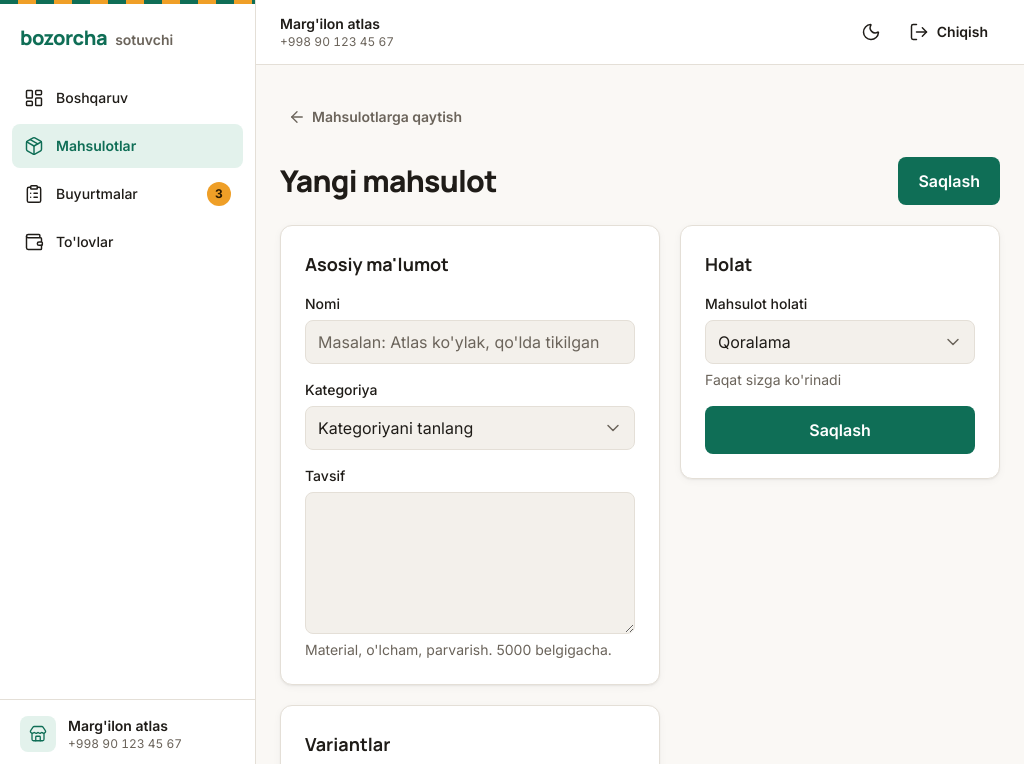
ProductEditorPage: saving › creates a product for sale as a draft and activates it after its variants
The width and height of the screenshot is (1024, 764).
Type "Choynak" into the field labelled "Nomi" at (470, 342), box top-left (305, 320), bottom-right (635, 364)
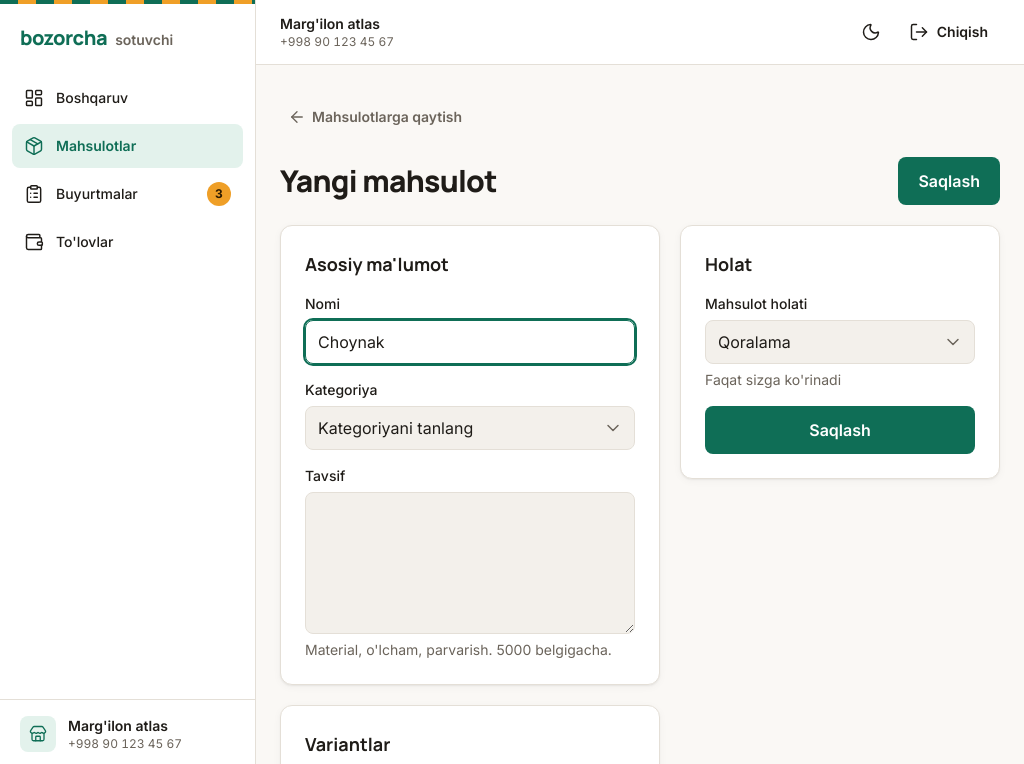
Select "Ayollar kiyimi" in the dropdown labelled "Kategoriya" at (470, 428), box top-left (305, 406), bottom-right (635, 450)
(page scrolled)
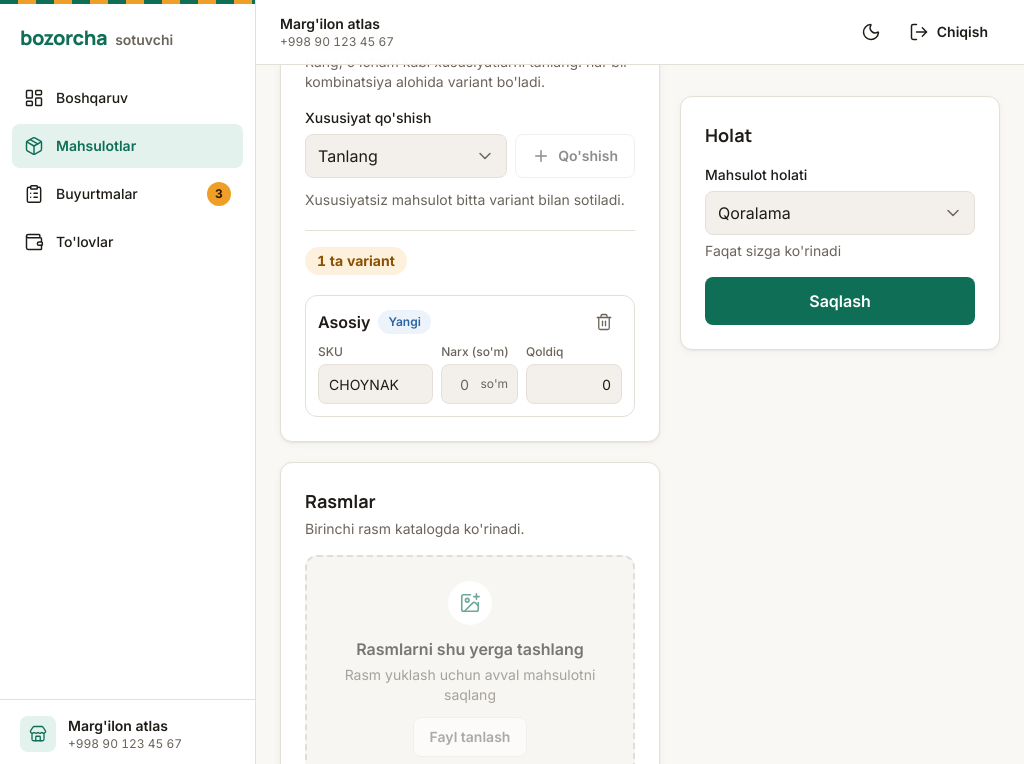
Type "185000" into the field named "Narx, so'm: Asosiy" at (480, 384), box top-left (441, 364), bottom-right (518, 404)
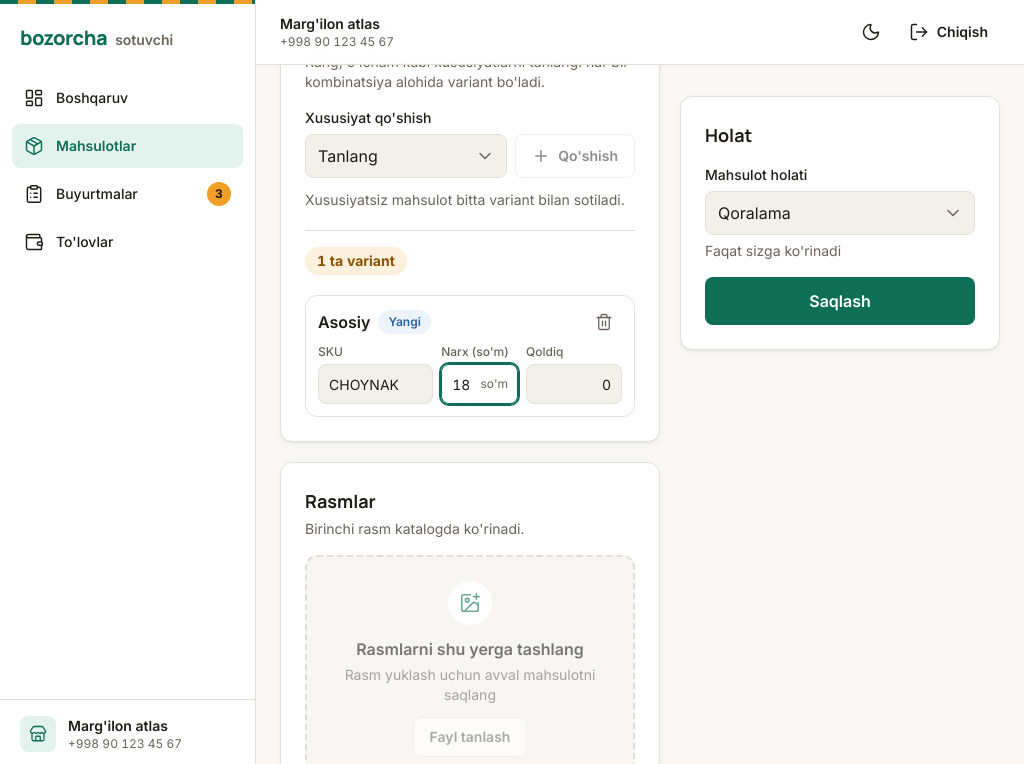
Select "Sotuvda" in the dropdown labelled "Mahsulot holati" at (840, 213), box top-left (705, 191), bottom-right (975, 235)
(page scrolled)
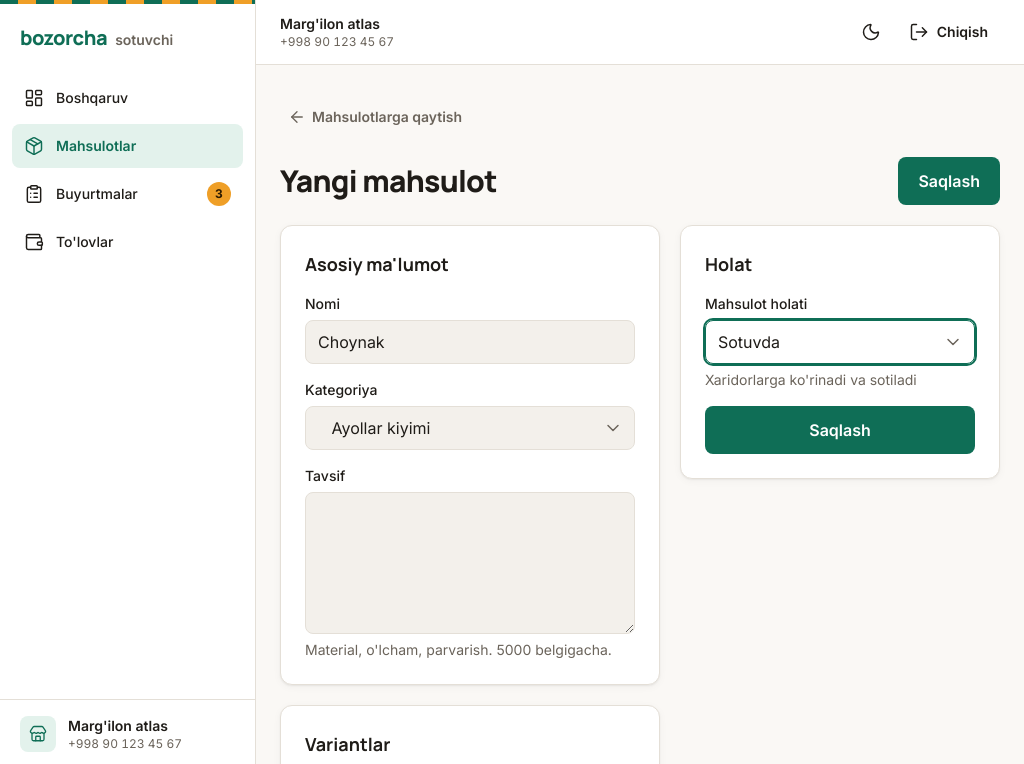
Click the button "Saqlash" in the row of "Yangi mahsulot" at (949, 181), box top-left (898, 157), bottom-right (1000, 205)
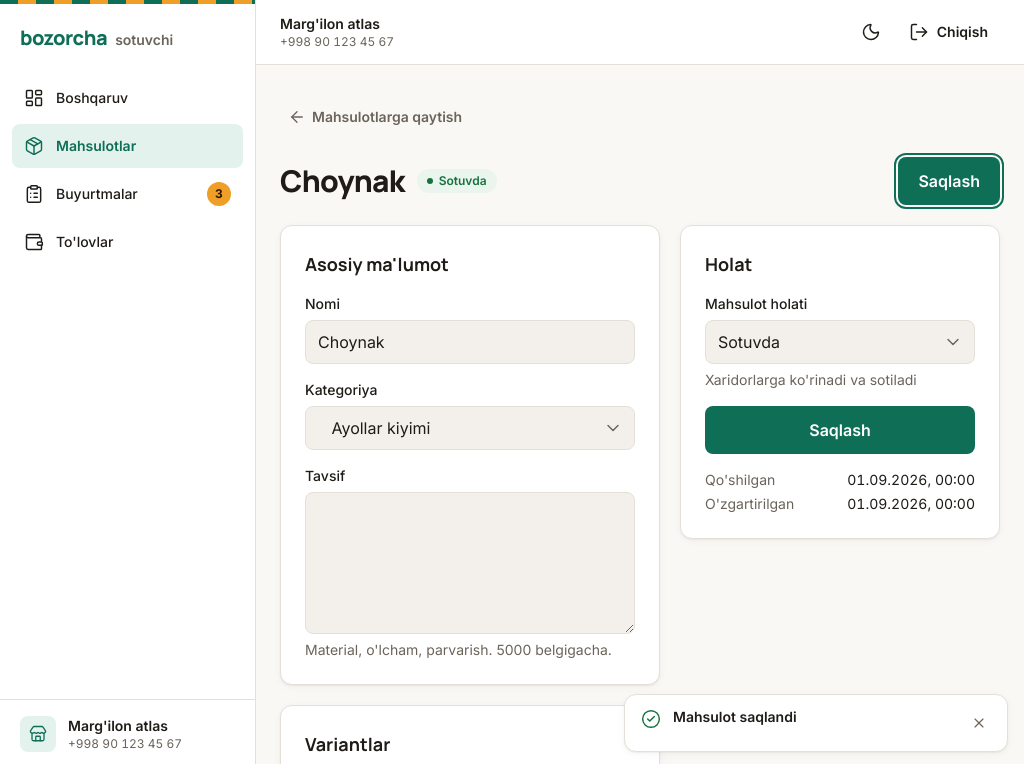
Now the text "Mahsulot saqlandi" is shown, box top-left (673, 708), bottom-right (797, 725)
Now the text "Sotuvda" is shown, box top-left (417, 169), bottom-right (497, 193)
